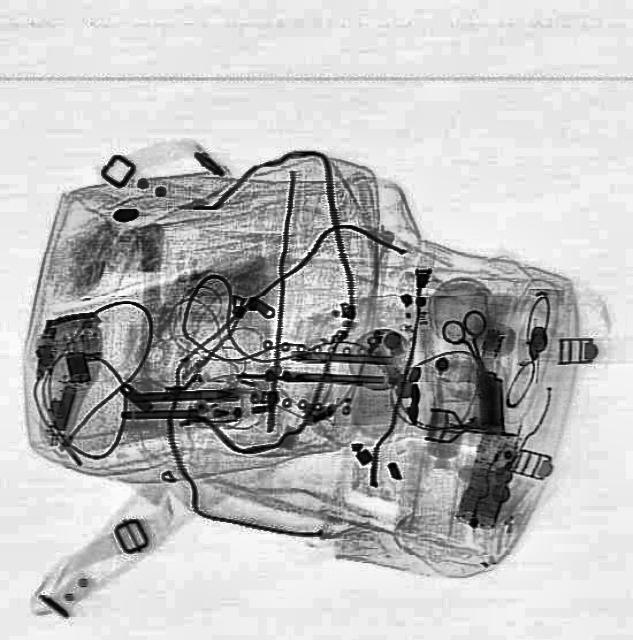Scissors: (438, 306, 504, 378)
